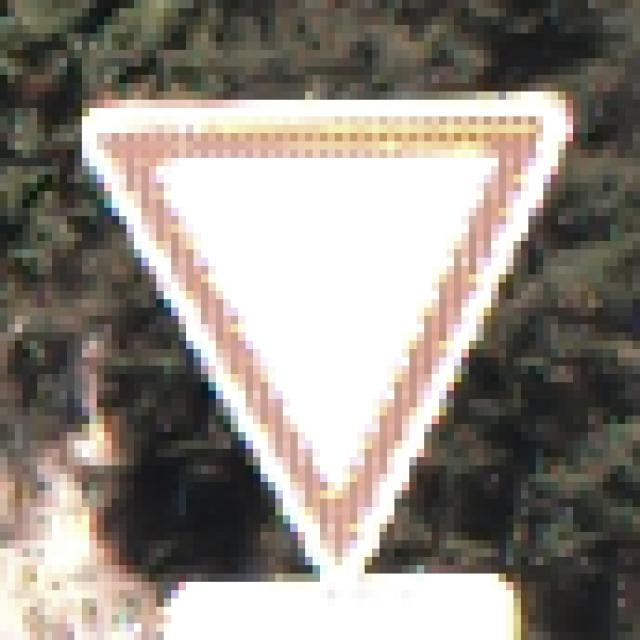Give Way: (61, 59, 582, 591)
